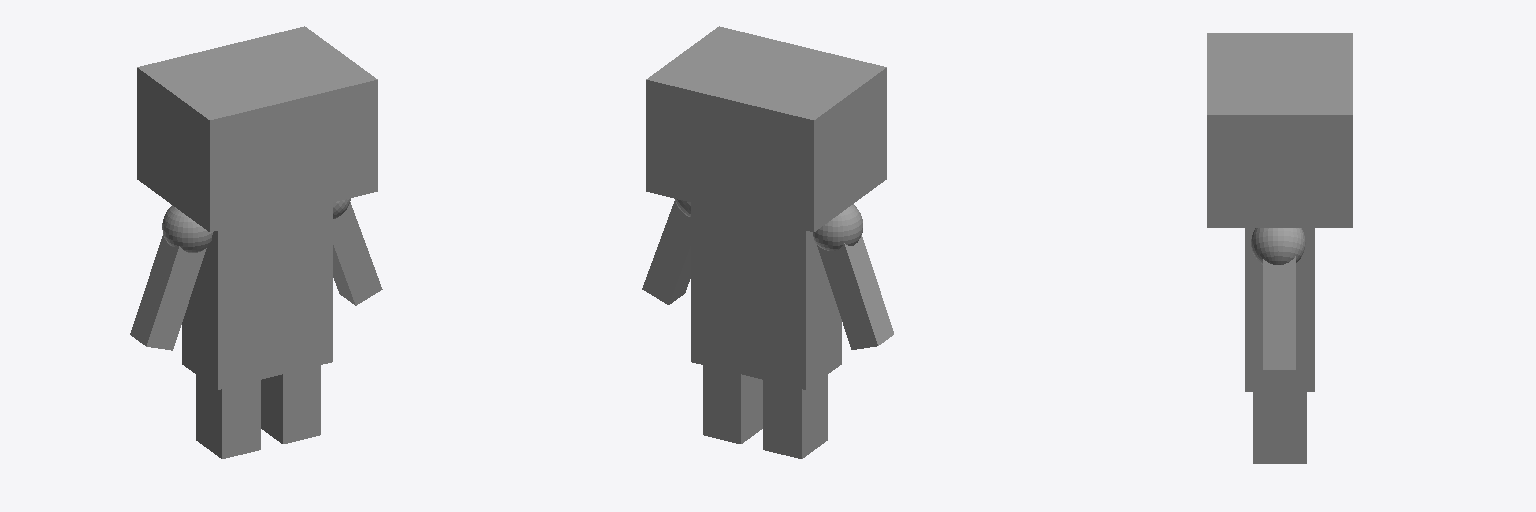
File: romeo.obj
3 views of the same model, side by side, from view 1: azimuth 30°, elevation 25°; view 2: azimuth 150°, elevation 25°; view 3: azimuth 270°, elevation 25° (orthographic).
Parts seen in each view (by area): view 1: Cube.003_Cube.004, Cube_Cube.001, Cube.004_Cube, Cube.001_Cube.002, Cube.002_Cube.003, Cube.005_Cube.007, Sphere; view 2: Cube.003_Cube.004, Cube_Cube.001, Cube.004_Cube, Cube.001_Cube.002, Cube.002_Cube.003, Cube.005_Cube.007, Sphere; view 3: Cube.003_Cube.004, Cube_Cube.001, Cube.002_Cube.003, Cube.005_Cube.007, Sphere.001.
Part boxes in pixels (left/top/right/bottom): Cube.003_Cube.004: left=137, top=26, right=377, bottom=231; Cube_Cube.001: left=182, top=203, right=332, bottom=389; Cube.004_Cube: left=130, top=235, right=206, bottom=350; Cube.001_Cube.002: left=196, top=375, right=260, bottom=458; Cube.002_Cube.003: left=261, top=365, right=320, bottom=443; Cube.005_Cube.007: left=333, top=202, right=382, bottom=305; Sphere: left=162, top=205, right=212, bottom=252; Cube.003_Cube.004: left=646, top=26, right=886, bottom=231; Cube_Cube.001: left=691, top=203, right=841, bottom=389; Cube.004_Cube: left=817, top=235, right=893, bottom=349; Cube.001_Cube.002: left=763, top=375, right=827, bottom=458; Cube.002_Cube.003: left=703, top=365, right=762, bottom=443; Cube.005_Cube.007: left=642, top=201, right=690, bottom=304; Sphere: left=813, top=204, right=862, bottom=250; Cube.003_Cube.004: left=1207, top=33, right=1352, bottom=227; Cube_Cube.001: left=1245, top=228, right=1314, bottom=391; Cube.002_Cube.003: left=1253, top=392, right=1306, bottom=463; Cube.005_Cube.007: left=1263, top=256, right=1295, bottom=369; Sphere.001: left=1251, top=228, right=1305, bottom=264.
Size of the model in its own units: 6.16 by 9.08 by 3.29.